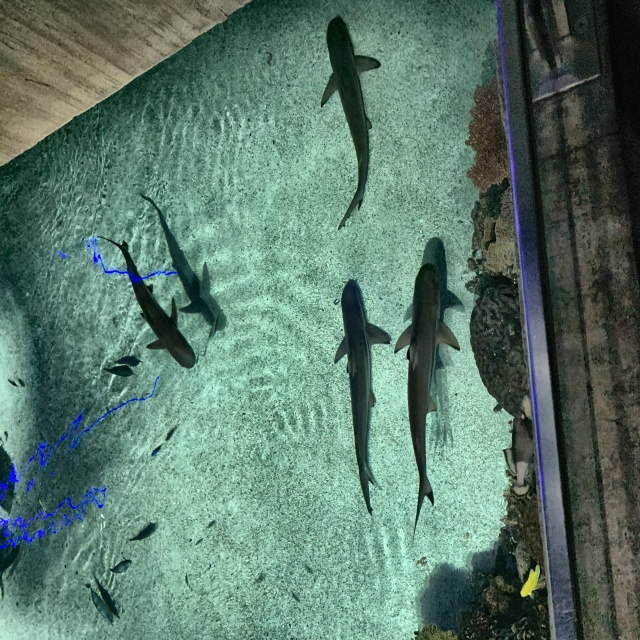fish: (84, 582, 116, 629), (519, 563, 541, 600), (127, 522, 155, 543), (107, 555, 133, 577), (102, 364, 135, 378), (150, 440, 166, 458), (7, 378, 19, 388)
shark: (392, 261, 462, 507), (333, 277, 393, 520), (318, 13, 383, 237), (93, 234, 196, 369)
